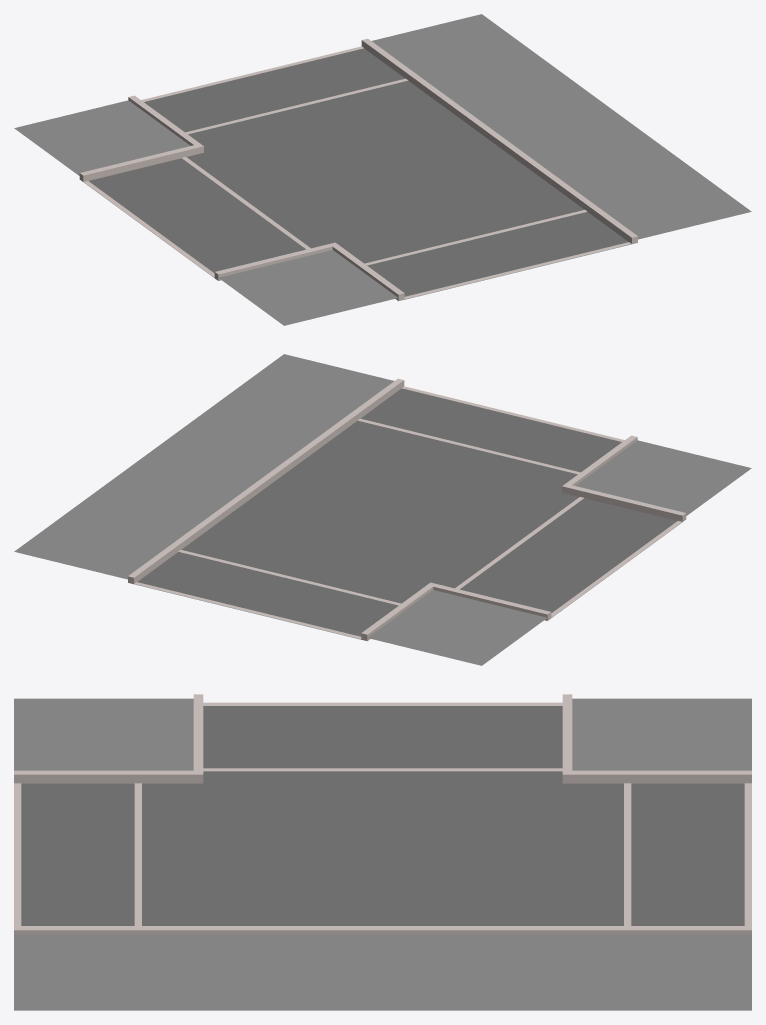
File: road_011.fbx
The picture shows the model from 3 angles, top to bottom: view 1: azimuth 30°, elevation 25°; view 2: azimuth 150°, elevation 25°; view 3: azimuth 270°, elevation 25°; orthographic projection. The views are drawn at different scales.
Parts seen in each view (by area): view 1: road_011; view 2: road_011; view 3: road_011.
Part boxes in pixels (x1,y1,x2,y2): road_011: [14, 14, 751, 325]; road_011: [14, 354, 751, 665]; road_011: [14, 694, 751, 1010].
Size of the model in its own units: 1500 by 20 by 1500.
